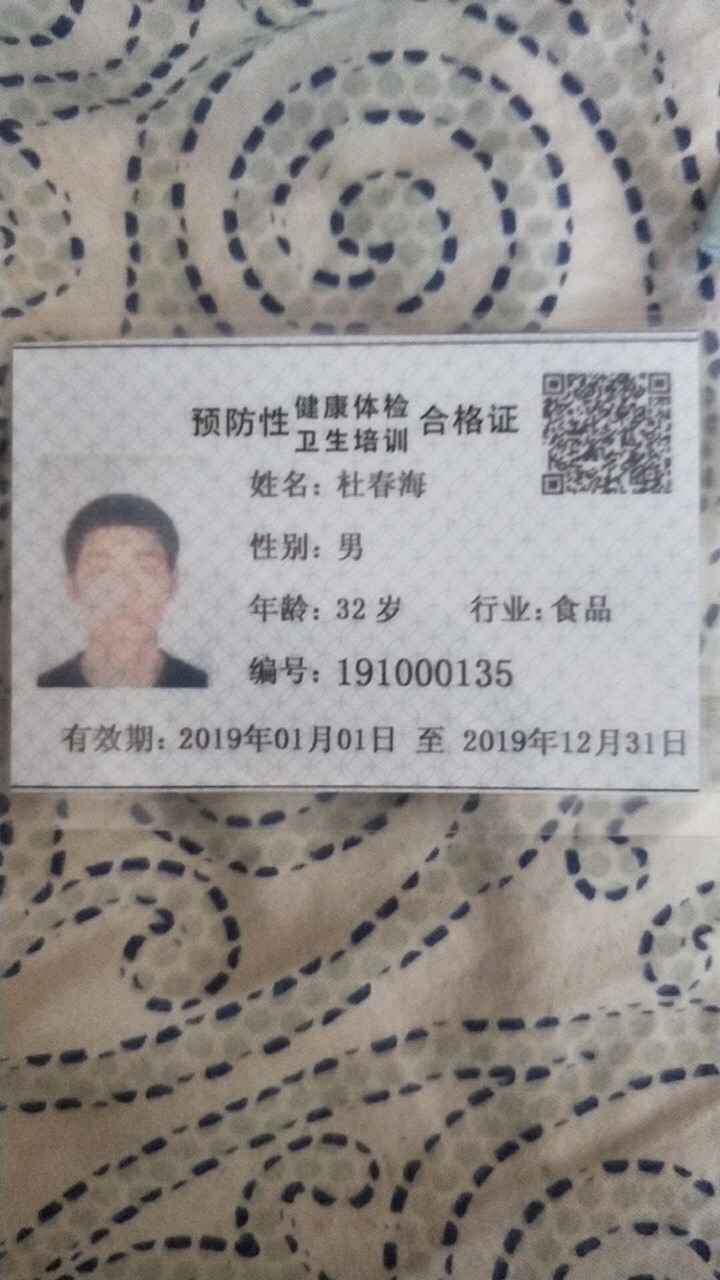qr: (542, 375, 676, 493)
